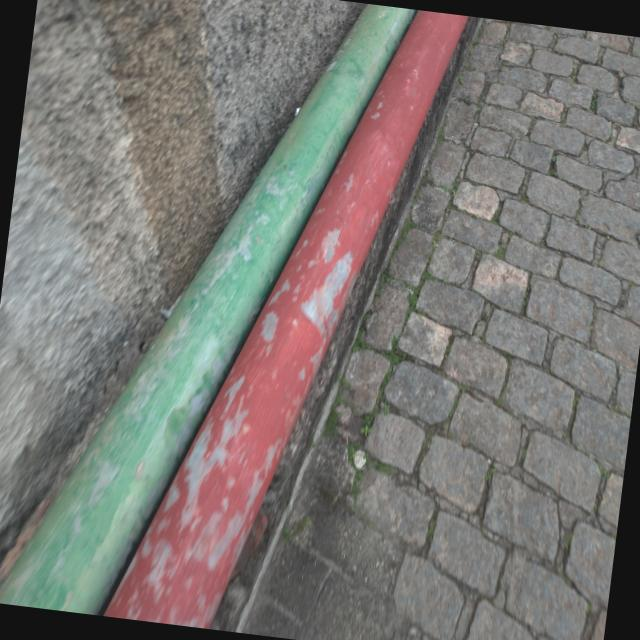gas: (0, 3, 412, 614), (102, 10, 469, 628)
